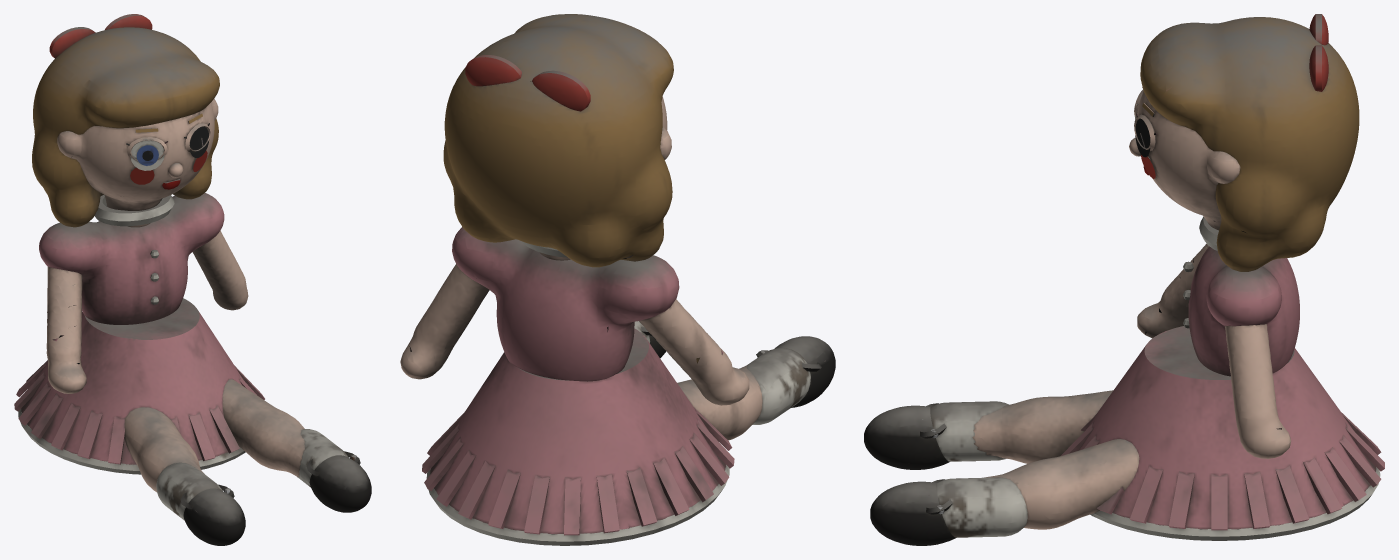
The model's file is SM_Doll_Plastic.fbx.
The picture shows the model from 3 angles, left to right: view 1: azimuth 30°, elevation 25°; view 2: azimuth 150°, elevation 25°; view 3: azimuth 270°, elevation 25°; orthographic projection. The views are drawn at different scales.
Parts seen in each view (by area): view 1: SM_Doll_Plastic; view 2: SM_Doll_Plastic; view 3: SM_Doll_Plastic.
Part boxes in pixels (<box>): SM_Doll_Plastic: <box>14,14,371,545</box>; SM_Doll_Plastic: <box>400,14,835,545</box>; SM_Doll_Plastic: <box>864,14,1384,545</box>.
Bounding box in the file's own units: 0.2656 × 0.417 × 0.42.
Materials: 1 (1 with a texture image).
